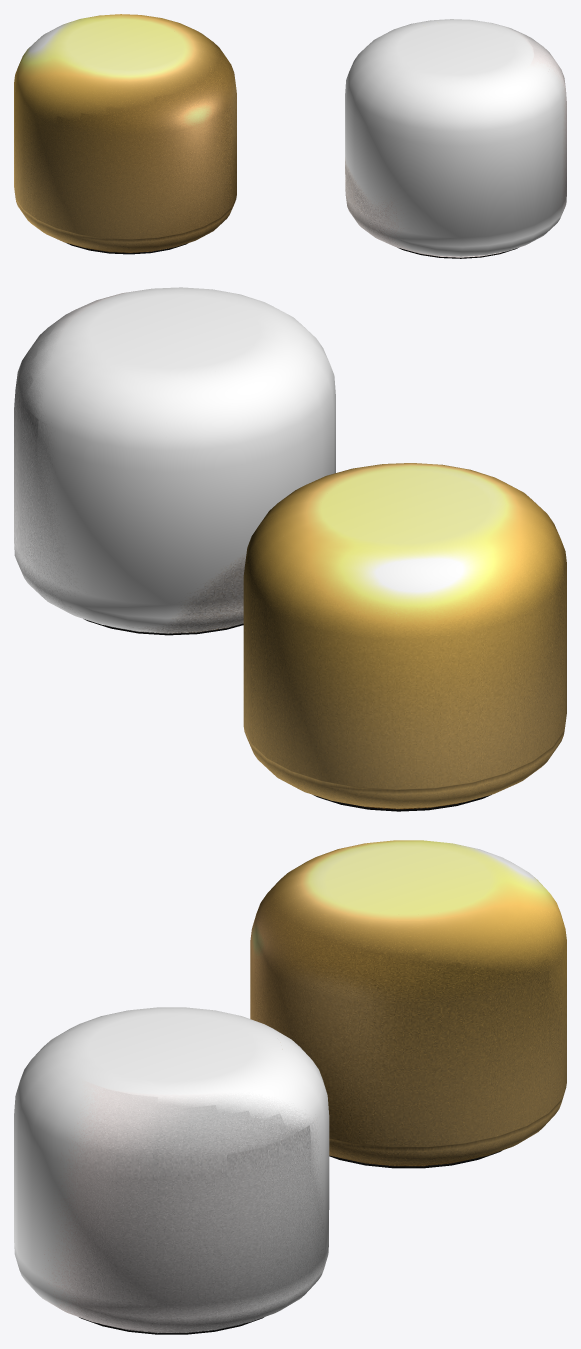
File: demo.gltf
The picture shows the model from 3 angles, top to bottom: view 1: azimuth 30°, elevation 25°; view 2: azimuth 150°, elevation 25°; view 3: azimuth 270°, elevation 25°; orthographic projection. The views are drawn at different scales.
Visible parts, largest first — view 1: Cylinder; view 2: Cylinder; view 3: Cylinder.
Boxes of the visible parts, x1,y1,x2,y2 form: Cylinder: [14, 14, 566, 258]; Cylinder: [14, 287, 566, 811]; Cylinder: [14, 840, 566, 1334].
Size of what is drawn, in the model's own units: 5.93 by 2.27 by 4.74.
2 materials, 2 textured.
